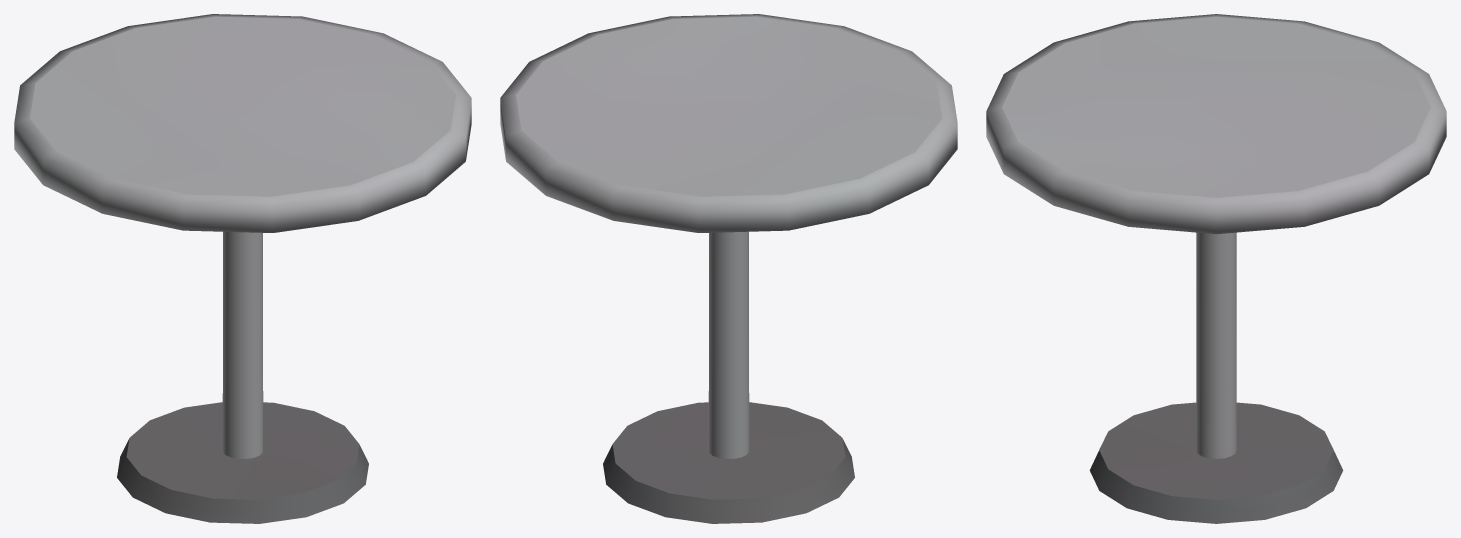
Rendered from foodRoomSmallTable.fbx.
The picture shows the model from 3 angles, left to right: view 1: azimuth 30°, elevation 25°; view 2: azimuth 150°, elevation 25°; view 3: azimuth 270°, elevation 25°; orthographic projection.
Visible parts, largest first — view 1: smallTable; view 2: smallTable; view 3: smallTable.
Part boxes in pixels (left/top/right/bottom): smallTable: left=14, top=14, right=471, bottom=523; smallTable: left=500, top=14, right=957, bottom=523; smallTable: left=986, top=14, right=1446, bottom=523.
Size of the model in its own units: 3723 by 3240 by 3723.
